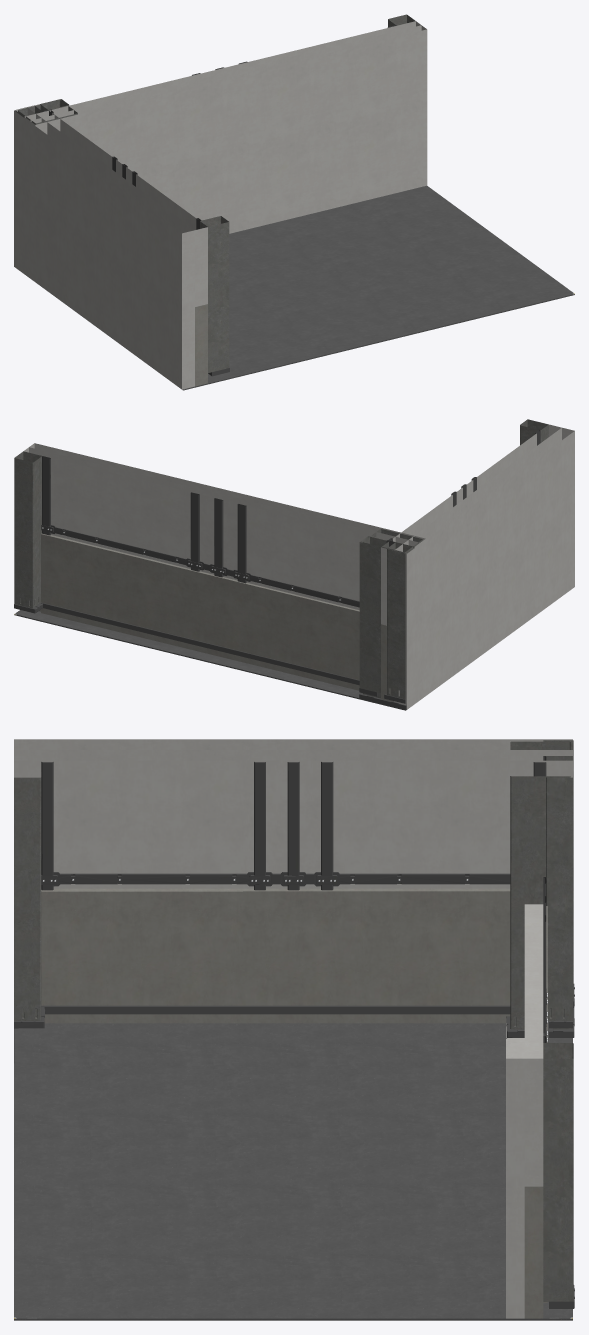
The model's file is hardware_basement_enclosure.glb.
3 views of the same model, one above another, from view 1: azimuth 30°, elevation 25°; view 2: azimuth 150°, elevation 25°; view 3: azimuth 270°, elevation 25° (orthographic). The views are drawn at different scales.
Parts seen in each view (by area): view 1: wall_back_part_0_m_opaque__concrete__plain_wall_a01, floor_part_1_m_opaque__concrete__plain_d, wall_back_part_3_m_opaque__concrete__bare_c01, wall_back_part_1_m_opaque__concrete__plain_wall_bottom_a01; view 2: wall_back_part_0_m_opaque__concrete__plain_wall_a01, wall_back_part_1_m_opaque__concrete__plain_wall_bottom_a01, wall_back_part_3_m_opaque__concrete__bare_c01, wall_back_part_4_m_opaque__metal__steelEnamel_white_a01, floor_part_1_m_opaque__concrete__plain_d, wall_back_part_2_m_opaque__metal__paintedNoise_a01; view 3: floor_part_1_m_opaque__concrete__plain_d, wall_back_part_0_m_opaque__concrete__plain_wall_a01, wall_back_part_1_m_opaque__concrete__plain_wall_bottom_a01, wall_back_part_3_m_opaque__concrete__bare_c01, wall_back_part_4_m_opaque__metal__steelEnamel_white_a01, wall_back_part_2_m_opaque__metal__paintedNoise_a01.
Boxes of the visible parts, <box> form: wall_back_part_0_m_opaque__concrete__plain_wall_a01: <box>14,21,427,389</box>; floor_part_1_m_opaque__concrete__plain_d: <box>182,185,574,390</box>; wall_back_part_3_m_opaque__concrete__bare_c01: <box>15,14,415,372</box>; wall_back_part_1_m_opaque__concrete__plain_wall_bottom_a01: <box>195,304,207,386</box>; wall_back_part_0_m_opaque__concrete__plain_wall_a01: <box>24,424,574,709</box>; wall_back_part_1_m_opaque__concrete__plain_wall_bottom_a01: <box>39,533,393,701</box>; wall_back_part_3_m_opaque__concrete__bare_c01: <box>14,419,548,699</box>; wall_back_part_4_m_opaque__metal__steelEnamel_white_a01: <box>41,430,540,607</box>; floor_part_1_m_opaque__concrete__plain_d: <box>14,610,406,710</box>; wall_back_part_2_m_opaque__metal__paintedNoise_a01: <box>14,602,406,709</box>; floor_part_1_m_opaque__concrete__plain_d: <box>14,1023,572,1320</box>; wall_back_part_0_m_opaque__concrete__plain_wall_a01: <box>14,739,572,1318</box>; wall_back_part_1_m_opaque__concrete__plain_wall_bottom_a01: <box>41,888,547,1318</box>; wall_back_part_3_m_opaque__concrete__bare_c01: <box>14,740,573,1301</box>; wall_back_part_4_m_opaque__metal__steelEnamel_white_a01: <box>41,756,546,1042</box>; wall_back_part_2_m_opaque__metal__paintedNoise_a01: <box>14,984,574,1308</box>.
Bounding box in the file's own units: 7 × 2.68 × 5.2.
Materials: 9 (8 with a texture image).
